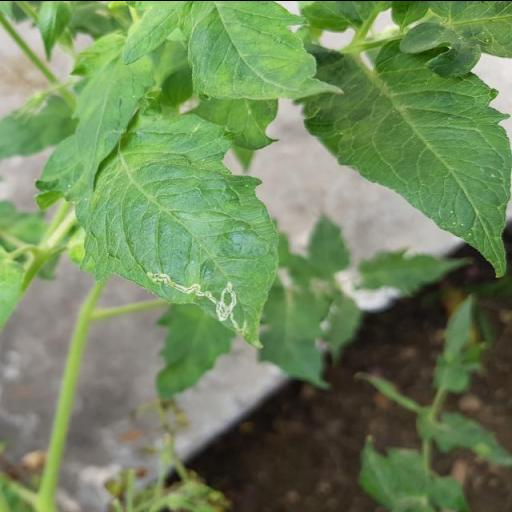disease_tomato: (74, 106, 282, 342)
